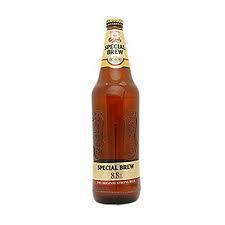beer: (92, 18, 141, 205)
